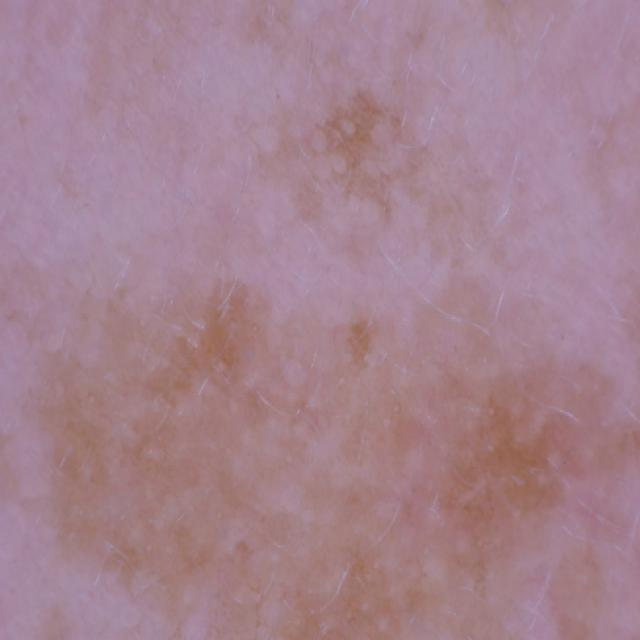Keratosis: (33, 264, 363, 570), (256, 63, 505, 452), (280, 397, 561, 640)
